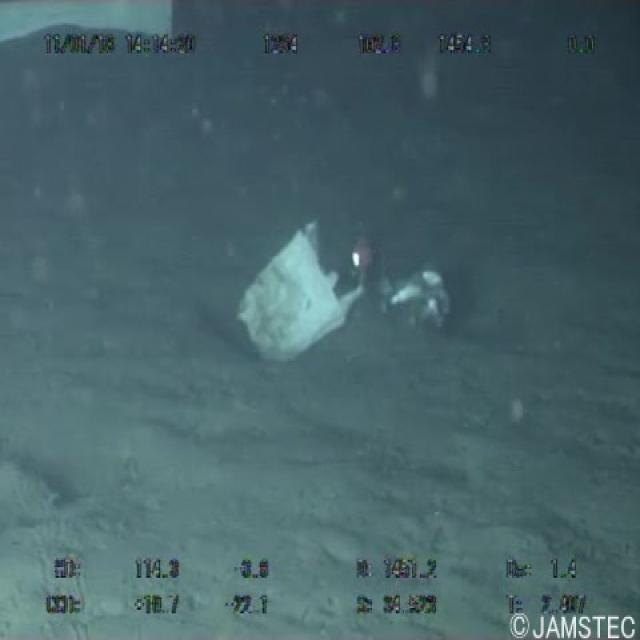plastic: (223, 210, 368, 382)
